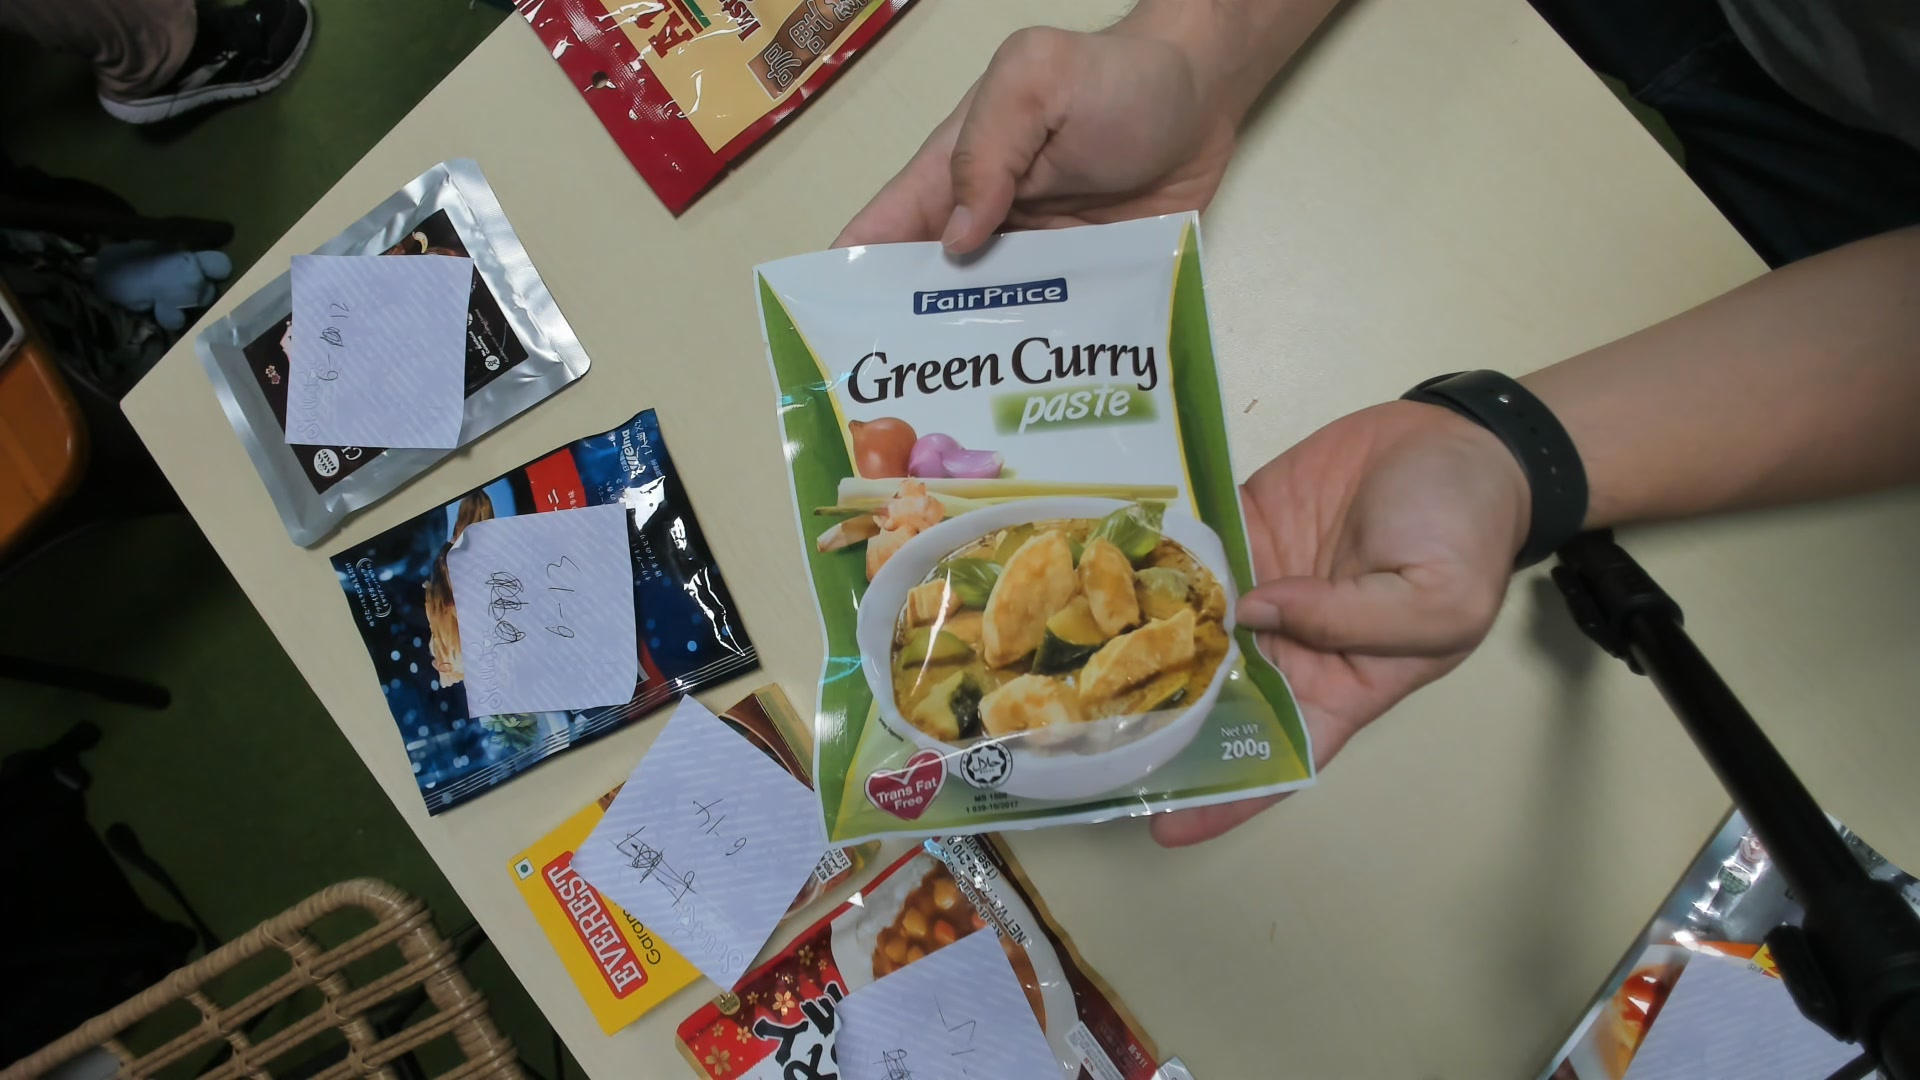CurryPastePowderSauce_200-299g_Halal_NonHealthy: (756, 224, 1311, 843)
